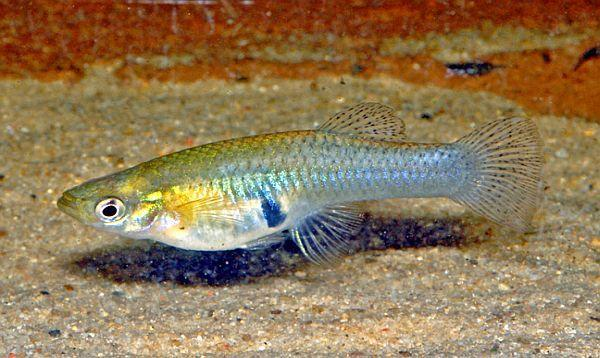Mosquito Fish: (56, 103, 546, 275)
